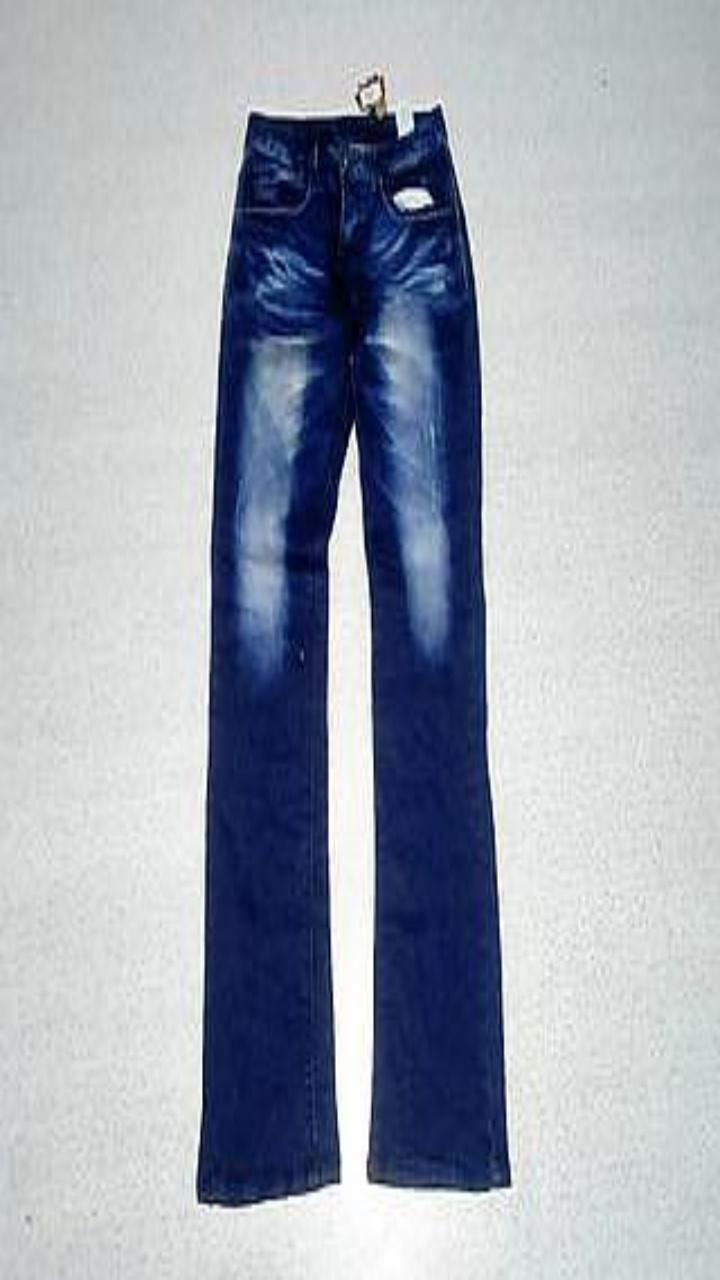Jeans: (196, 104, 510, 1204)
